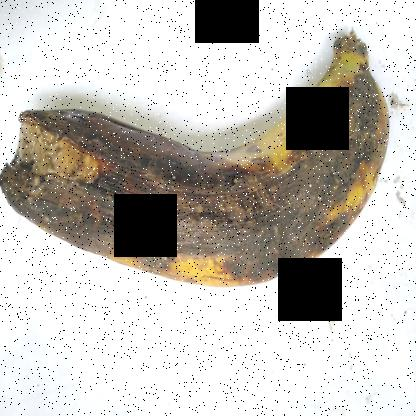rotten: (0, 47, 388, 313)
